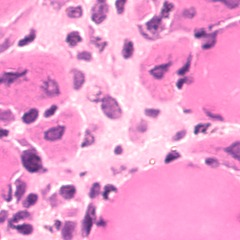New: (1, 49, 68, 116), (135, 33, 192, 100), (27, 104, 86, 166)
